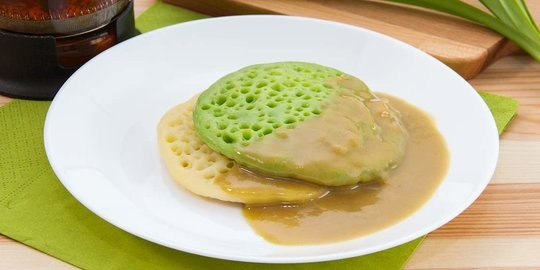srabi: (176, 51, 415, 188)
